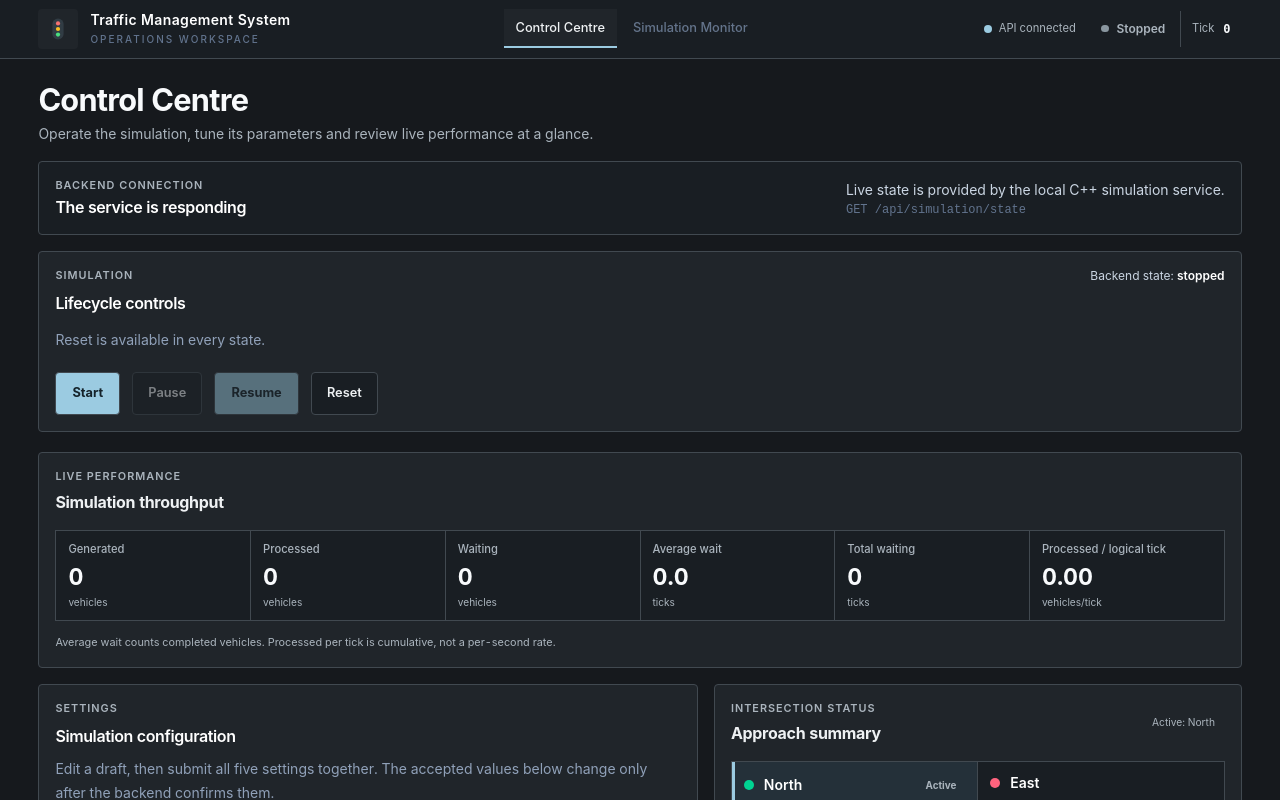
Test case: simulation controls and configuration › calls start and refreshes authoritative state
Check: the heading "Lifecycle controls" is shown, box [55, 291, 185, 316]
Check: the heading "Simulation configuration" is shown, box [55, 726, 236, 746]
Click the button "Start" at {"x": 88, "y": 394}, box [55, 372, 120, 415]
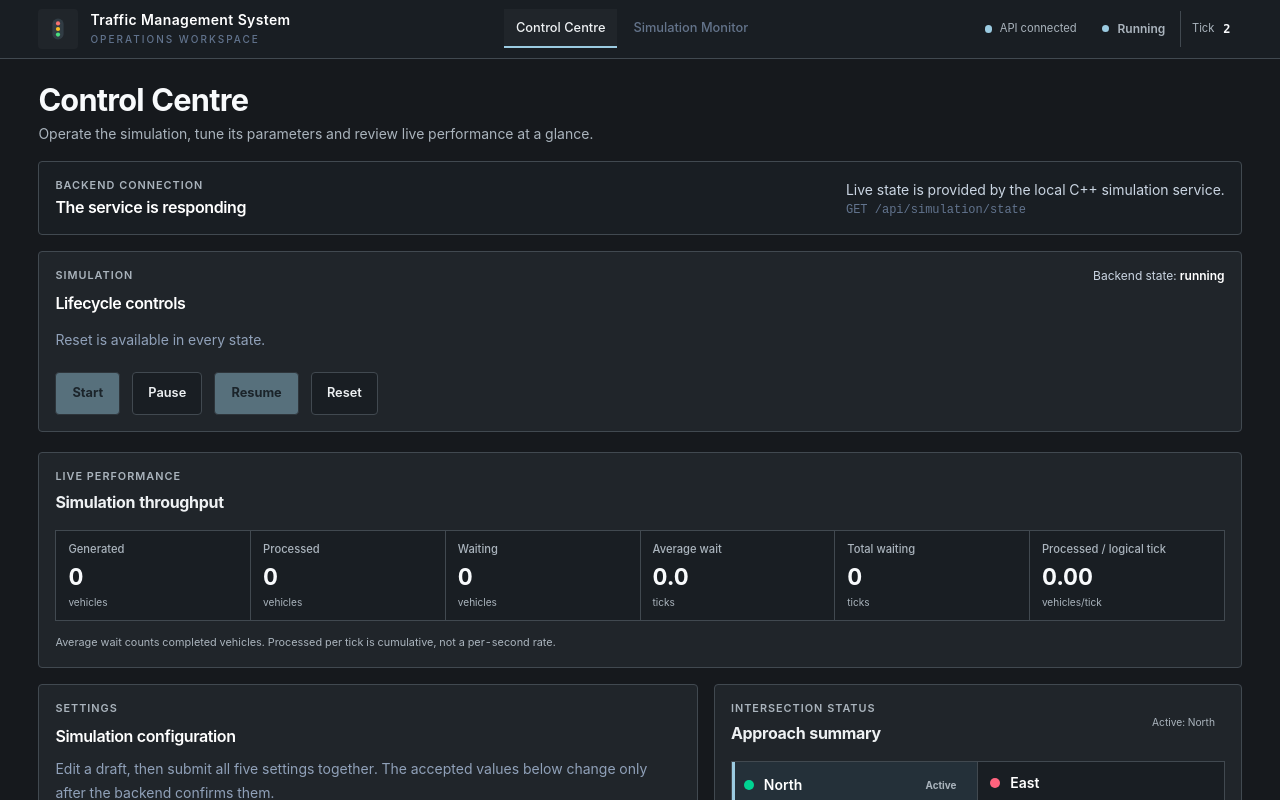
Check: the element "Lifecycle controls" shows "running", box [1180, 268, 1225, 283]
